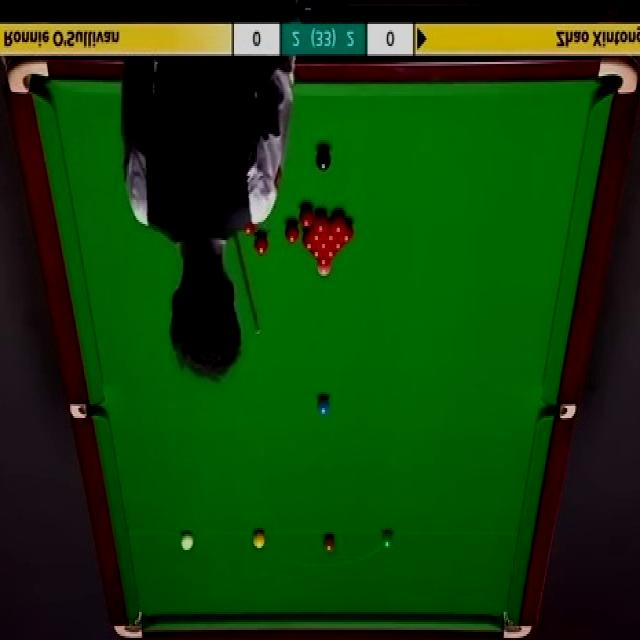black-ball: (316, 148, 331, 172)
blue-ball: (316, 398, 331, 415)
brown-ball: (323, 533, 335, 552)
green-ball: (380, 530, 395, 552)
pink-ball: (317, 262, 332, 276)
red-ball: (298, 207, 316, 230), (329, 212, 347, 233), (316, 213, 331, 235), (337, 222, 352, 244), (253, 235, 269, 255), (285, 223, 299, 243), (325, 221, 338, 242), (304, 239, 315, 251), (318, 238, 329, 250), (318, 253, 328, 265)
white-ball: (180, 533, 195, 551)
yellow-ball: (253, 530, 265, 550)
